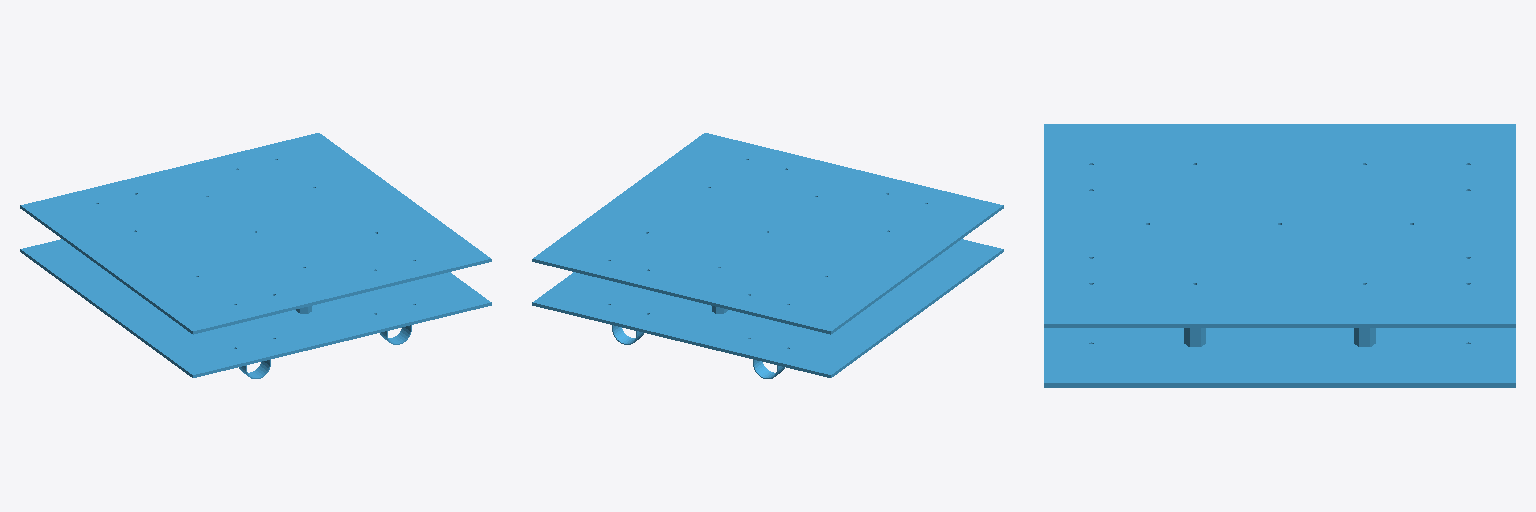
URDF robot description (robot_model):
<robot name="robot_model">

  <!-- ================= BASE FOOTPRINT ================= -->
  <link name="base_footprint"/>

  <joint name="base_footprint_joint" type="fixed">
    <parent link="base_footprint"/>
    <child link="base_link"/>
    <origin xyz="0 0 0" rpy="0 0 0"/>
  </joint>

  <!-- ================= BASE LINK ================= -->
  <link name="base_link">
    <inertial>
      <origin xyz="3.9148E-14 -4.0075E-13 0.026236" rpy="0 0 0"/>
      <mass value="3.2862"/>
      <inertia
        ixx="0.052662" ixy="5.7223E-11" ixz="5.2915E-16"
        iyy="0.052268" iyz="-1.7097E-18" izz="0.10465"/>
    </inertial>

    <visual>
      <geometry>
        <mesh filename="package://robot_model/meshes/base_link.STL"/>
      </geometry>
    </visual>

    <collision>
      <geometry>
        <mesh filename="package://robot_model/meshes/base_link.STL"/>
      </geometry>
    </collision>
    <gazebo reference="base_link">
      <mu1>1.0</mu1>
      <mu2>1.0</mu2>
      <kp>1000000.0</kp>
      <kd>1.0</kd>
    </gazebo>

  </link>

  <!-- ================= LEFT FRONT WHEEL ================= -->
  <link name="left_wheel_front">
    <inertial>
      <origin xyz="-8.9512E-06 -6.1532E-06 0.016295" rpy="0 0 0"/>
      <mass value="0.98637"/>
      <inertia
        ixx="0.001417" ixy="-1.0957E-07" ixz="2.7751E-07"
        iyy="0.0014171" iyz="1.9089E-07" izz="0.0023056"/>
    </inertial>

    <visual>
      <geometry>
        <mesh filename="package://robot_model/meshes/left_wheel_front.STL"/>
      </geometry>
    </visual>

    <collision>
      <geometry>
        <mesh filename="package://robot_model/meshes/left_wheel_front.STL"/>
      </geometry>
    </collision>
  </link>

  <joint name="left_wheel_front_joint" type="continuous">
    <parent link="base_link"/>
    <child link="left_wheel_front"/>
    <origin xyz="0.118 0.3005 -0.021" rpy="1.5708 0 0"/>
    <axis xyz="0 0 1"/>
    <limit effort="10.0" velocity="20.0"/>
  </joint>

  <!-- ================= LEFT REAR WHEEL ================= -->
  <link name="left_wheel_rear">
    <inertial>
      <origin xyz="-8.9512E-06 -6.1532E-06 0.016793" rpy="0 0 0"/>
      <mass value="0.98637"/>
      <inertia
        ixx="0.001417" ixy="-1.0957E-07" ixz="2.7751E-07"
        iyy="0.0014171" iyz="1.9089E-07" izz="0.0023056"/>
    </inertial>

    <visual>
      <geometry>
        <mesh filename="package://robot_model/meshes/left_wheel_rear.STL"/>
      </geometry>
    </visual>

    <collision>
      <geometry>
        <mesh filename="package://robot_model/meshes/left_wheel_rear.STL"/>
      </geometry>
    </collision>
  </link>

  <joint name="left_wheel_rear_joint" type="continuous">
    <parent link="base_link"/>
    <child link="left_wheel_rear"/>
    <origin xyz="-0.11875 0.3005 -0.021096" rpy="1.5708 0 0"/>
    <axis xyz="0 0 1"/>
    <limit effort="10.0" velocity="20.0"/>
  </joint>

  <!-- ================= RIGHT FRONT WHEEL ================= -->
  <link name="right_wheel_front">
    <inertial>
      <origin xyz="8.9513E-06 -6.1533E-06 -0.016793" rpy="0 0 0"/>
      <mass value="0.98637"/>
      <inertia
        ixx="0.001417" ixy="1.0957E-07" ixz="2.7751E-07"
        iyy="0.0014171" iyz="-1.9089E-07" izz="0.0023056"/>
    </inertial>

    <visual>
      <geometry>
        <mesh filename="package://robot_model/meshes/right_wheel_front.STL"/>
      </geometry>
    </visual>

    <collision>
      <geometry>
        <mesh filename="package://robot_model/meshes/right_wheel_front.STL"/>
      </geometry>
    </collision>
  </link>

  <joint name="right_wheel_front_joint" type="continuous">
    <parent link="base_link"/>
    <child link="right_wheel_front"/>
    <origin xyz="0.118 -0.301 -0.021" rpy="1.5708 0 0"/>
    <axis xyz="0 0 1"/>
    <limit effort="10.0" velocity="20.0"/>
  </joint>

  <!-- ================= RIGHT REAR WHEEL ================= -->
  <link name="right_wheel_rear">
    <inertial>
      <origin xyz="-8.9513E-06 6.1533E-06 -0.016793" rpy="0 0 0"/>
      <mass value="0.98637"/>
      <inertia
        ixx="0.001417" ixy="1.0957E-07" ixz="-2.7751E-07"
        iyy="0.0014171" iyz="1.9089E-07" izz="0.0023056"/>
    </inertial>

    <visual>
      <geometry>
        <mesh filename="package://robot_model/meshes/right_wheel_rear.STL"/>
      </geometry>
    </visual>

    <collision>
      <geometry>
        <mesh filename="package://robot_model/meshes/right_wheel_rear.STL"/>
      </geometry>
    </collision>
  </link>

  <joint name="right_wheel_rear_joint" type="continuous">
    <parent link="base_link"/>
    <child link="right_wheel_rear"/>
    <origin xyz="-0.118 -0.301 -0.021" rpy="1.5708 0 0"/>
    <axis xyz="0 0 1"/>
    <limit effort="10.0" velocity="20.0"/>
  </joint>
  
<!-- ================= ROS2 CONTROL ================= -->
<ros2_control name="RobotSystem" type="system">
  <hardware>
    <plugin>gazebo_ros2_control/GazeboSystem</plugin>
  </hardware>

  <joint name="left_wheel_front_joint">
    <command_interface name="velocity"/>
    <state_interface name="position"/>
    <state_interface name="velocity"/>
  </joint>

  <joint name="left_wheel_rear_joint">
    <command_interface name="velocity"/>
    <state_interface name="position"/>
    <state_interface name="velocity"/>
  </joint>

  <joint name="right_wheel_front_joint">
    <command_interface name="velocity"/>
    <state_interface name="position"/>
    <state_interface name="velocity"/>
  </joint>

  <joint name="right_wheel_rear_joint">
    <command_interface name="velocity"/>
    <state_interface name="position"/>
    <state_interface name="velocity"/>
  </joint>
</ros2_control>

<!-- ================= GAZEBO ROS2 CONTROL ================= -->
<gazebo>
  <plugin name="gazebo_ros2_control" filename="libgazebo_ros2_control.so"/>
</gazebo>
<gazebo reference="left_wheel_front">
  <mu1>2.0</mu1>
  <mu2>2.0</mu2>
  <kp>1000000.0</kp>
  <kd>1.0</kd>
</gazebo>
<gazebo reference="left_wheel_rear">
  <mu1>2.0</mu1>
  <mu2>2.0</mu2>
  <kp>1000000.0</kp>
  <kd>1.0</kd>
</gazebo>
<gazebo reference="right_wheel_front">
  <mu1>2.0</mu1>
  <mu2>2.0</mu2>
  <kp>1000000.0</kp>
  <kd>1.0</kd>
</gazebo>
<gazebo reference="right_wheel_rear">
  <mu1>2.0</mu1>
  <mu2>2.0</mu2>
  <kp>1000000.0</kp>
  <kd>1.0</kd>
</gazebo>

<!-- ================= TRANSMISSIONS ================= -->

<transmission name="left_wheel_front_trans">
  <type>transmission_interface/SimpleTransmission</type>
  <joint name="left_wheel_front_joint">
    <hardwareInterface>hardware_interface/VelocityJointInterface</hardwareInterface>
  </joint>
  <actuator name="left_wheel_front_motor">
    <hardwareInterface>hardware_interface/VelocityJointInterface</hardwareInterface>
    <mechanicalReduction>1</mechanicalReduction>
  </actuator>
</transmission>

<transmission name="left_wheel_rear_trans">
  <type>transmission_interface/SimpleTransmission</type>
  <joint name="left_wheel_rear_joint">
    <hardwareInterface>hardware_interface/VelocityJointInterface</hardwareInterface>
  </joint>
  <actuator name="left_wheel_rear_motor">
    <hardwareInterface>hardware_interface/VelocityJointInterface</hardwareInterface>
    <mechanicalReduction>1</mechanicalReduction>
  </actuator>
</transmission>

<transmission name="right_wheel_front_trans">
  <type>transmission_interface/SimpleTransmission</type>
  <joint name="right_wheel_front_joint">
    <hardwareInterface>hardware_interface/VelocityJointInterface</hardwareInterface>
  </joint>
  <actuator name="right_wheel_front_motor">
    <hardwareInterface>hardware_interface/VelocityJointInterface</hardwareInterface>
    <mechanicalReduction>1</mechanicalReduction>
  </actuator>
</transmission>

<transmission name="right_wheel_rear_trans">
  <type>transmission_interface/SimpleTransmission</type>
  <joint name="right_wheel_rear_joint">
    <hardwareInterface>hardware_interface/VelocityJointInterface</hardwareInterface>
  </joint>
  <actuator name="right_wheel_rear_motor">
    <hardwareInterface>hardware_interface/VelocityJointInterface</hardwareInterface>
    <mechanicalReduction>1</mechanicalReduction>
  </actuator>
</transmission>

</robot>


--- What the picture shows (computed from the rendered views, not written in the file) ---
The picture shows the robot from 3 angles, left to right: view 1: azimuth 30°, elevation 25°; view 2: azimuth 150°, elevation 25°; view 3: azimuth 270°, elevation 25°; orthographic projection.
Robot: robot_model — 6 links, 5 joints (4 continuous, 1 fixed); root link base_footprint; default pose: all joints at 0.
Links seen in each view (by area): view 1: base_link; view 2: base_link; view 3: base_link.
Boxes of the visible links, <box> form: base_link: <box>20,133,491,378</box>; base_link: <box>532,133,1003,378</box>; base_link: <box>1044,124,1515,387</box>.
Size in the robot's own frame: 0.5 by 0.5 by 0.1224 metres.
Meshes: 5 distinct files referenced, 1 mesh visuals loaded (1 binary STL); not drawn: 4 (reference not matched to a file when rendering).